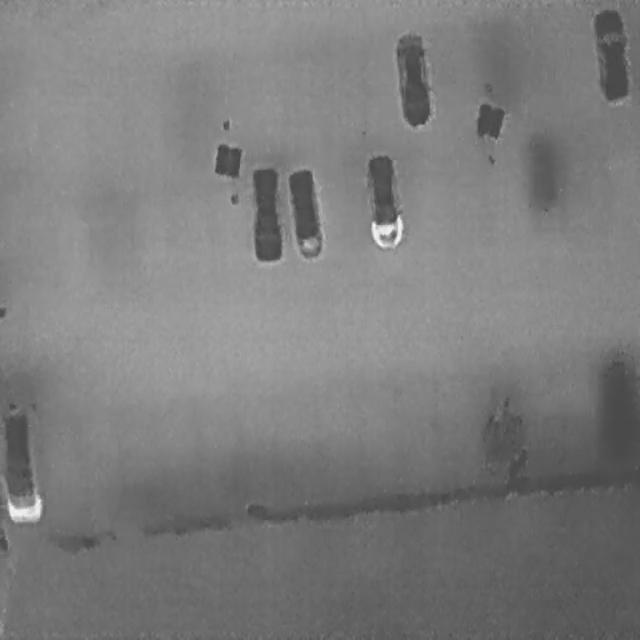Car: (0, 405, 44, 520), (362, 150, 405, 251), (391, 28, 434, 128), (284, 162, 326, 262), (590, 3, 632, 102), (250, 165, 282, 261)
